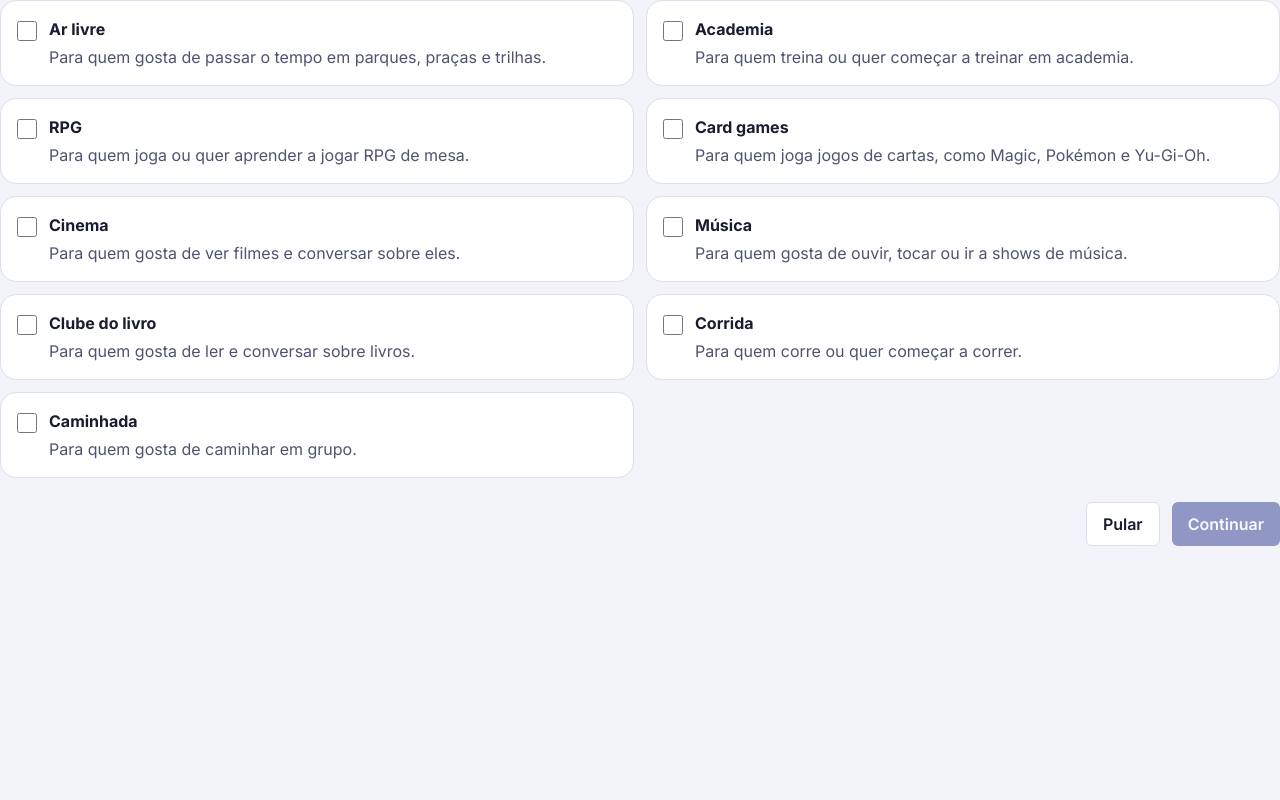
passo Escolha suas comunidades › mostra o erro em texto junto da ação
Click the checkbox labelled "Corrida Para quem corre ou quer começar a correr." at (673, 325), box [663,315,683,335]
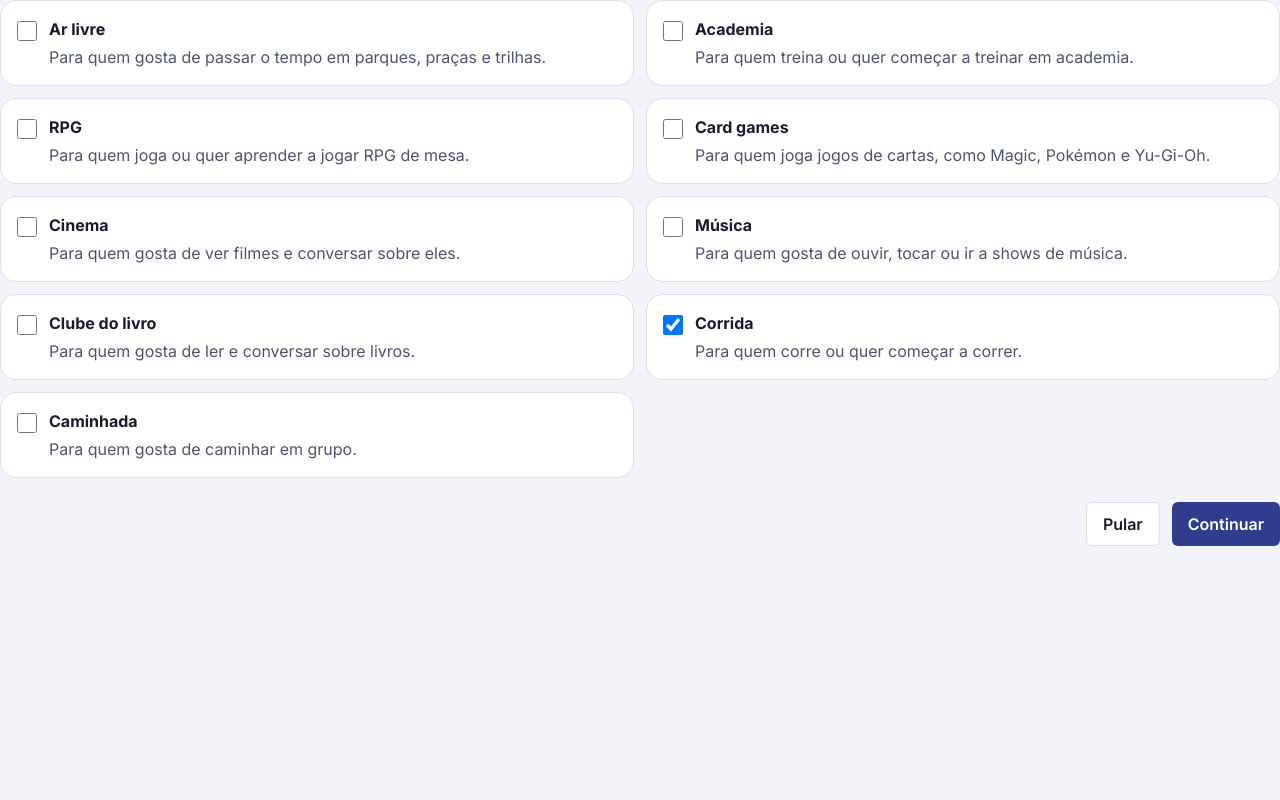
Click the button "Continuar" at (1226, 524), box [1172,502,1279,546]
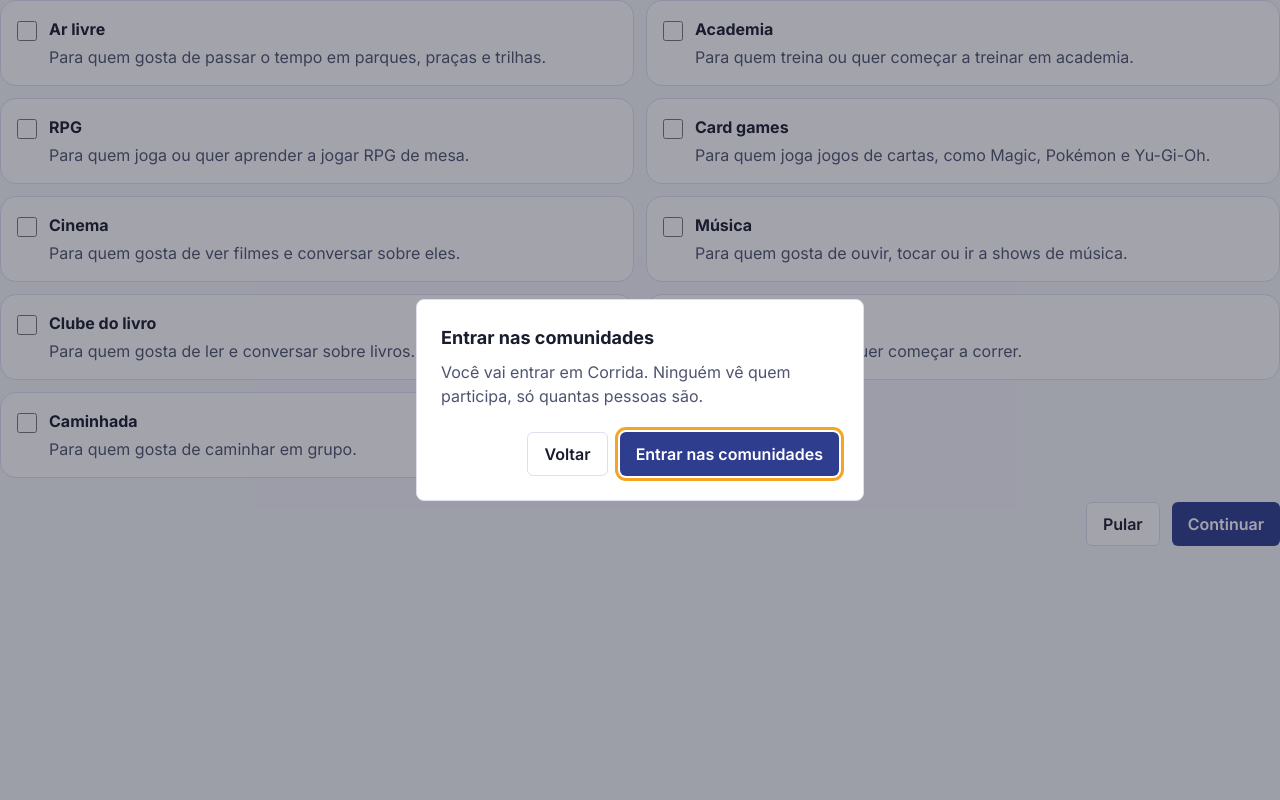
Click the button "Entrar nas comunidades" at (729, 454), box [620,432,839,476]
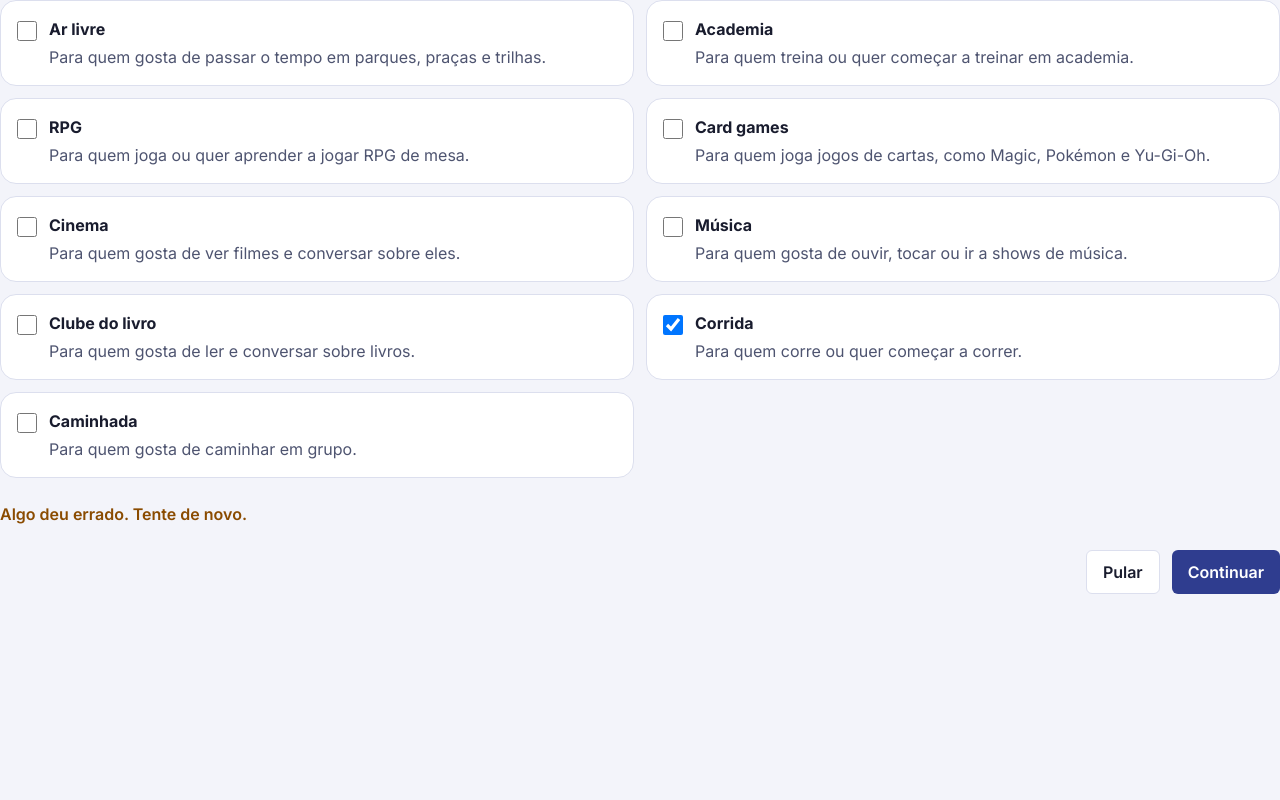
Now the message reads "Algo deu errado. Tente de novo.", box [0,504,247,524]
